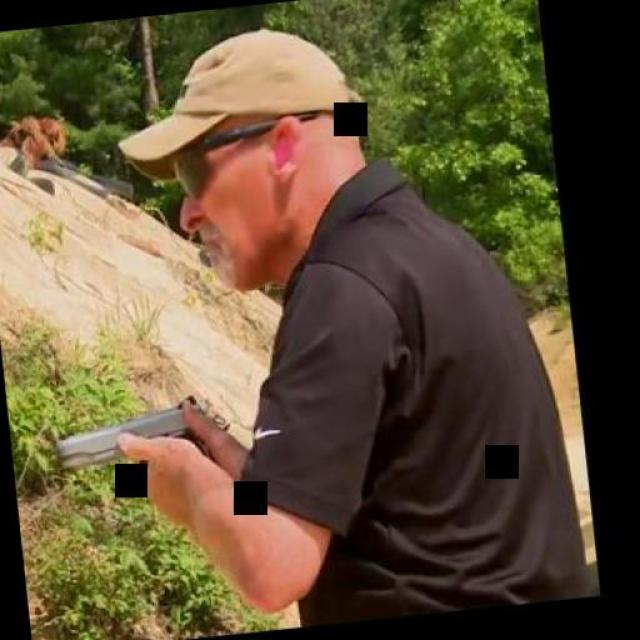gun: (50, 394, 236, 514)
